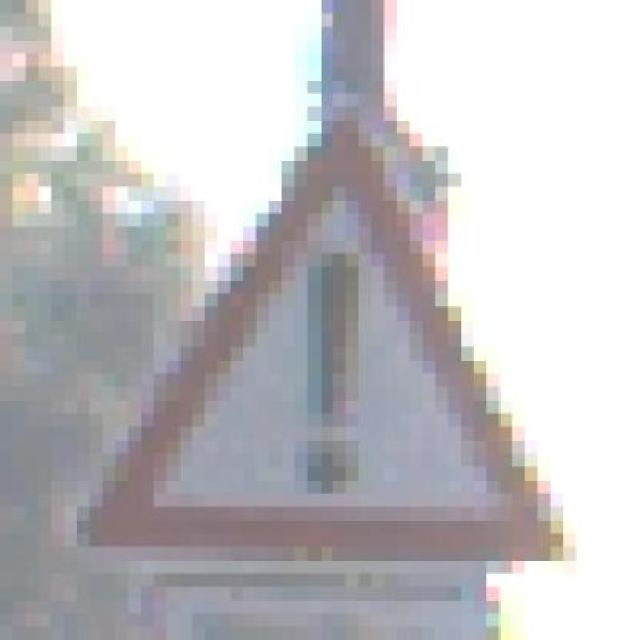Attention Please-: (52, 79, 576, 587)
